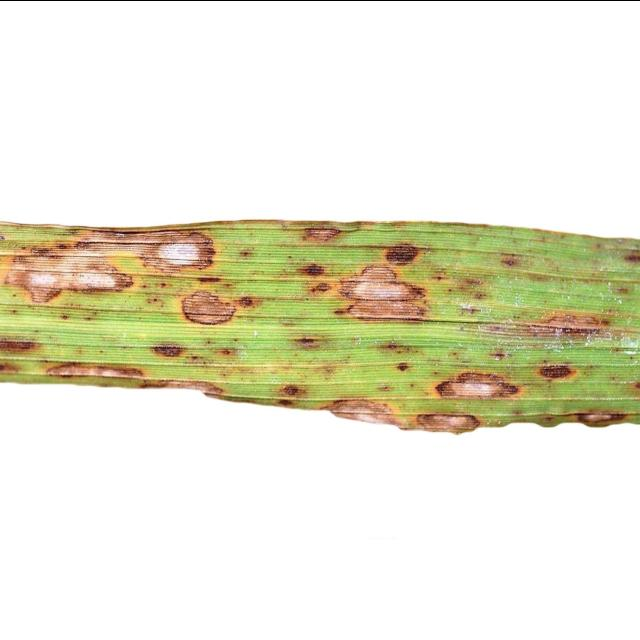Leaf blast: (0, 172, 640, 446)
